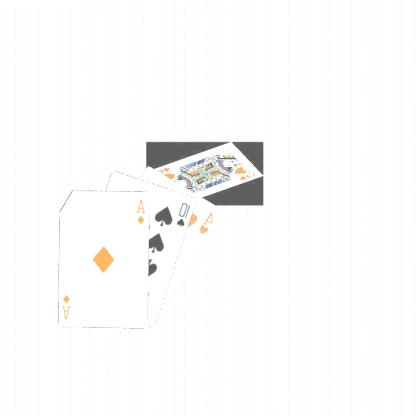10S: (176, 199, 194, 228)
4H: (198, 209, 216, 236)
AD: (136, 196, 149, 226), (61, 292, 74, 321)
